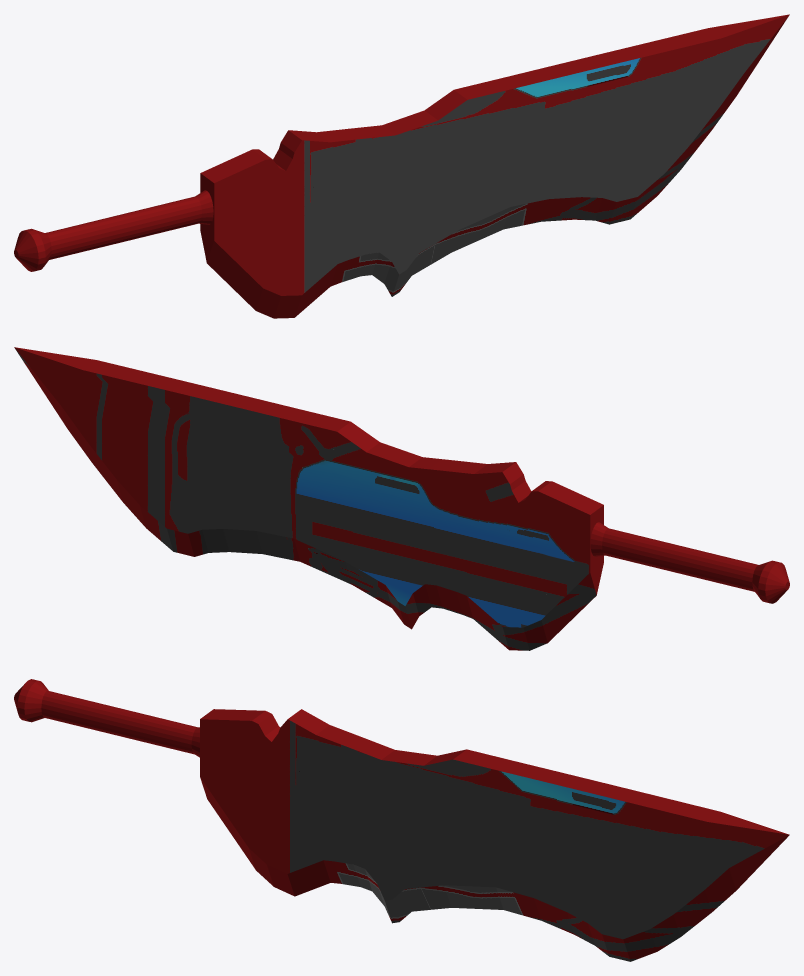
File: BasicKnife.fbx
3 renders of one model, top to bottom at view 1: azimuth 30°, elevation 25°; view 2: azimuth 150°, elevation 25°; view 3: azimuth 330°, elevation 25°, orthographic.
Parts seen in each view (by area): view 1: Blade; view 2: Blade; view 3: Blade.
Boxes of the visible parts, <box> form: Blade: <box>14,14,789,318</box>; Blade: <box>14,347,789,650</box>; Blade: <box>14,679,789,961</box>.
Bounding box in the file's own units: 482 × 111 × 22.98.
